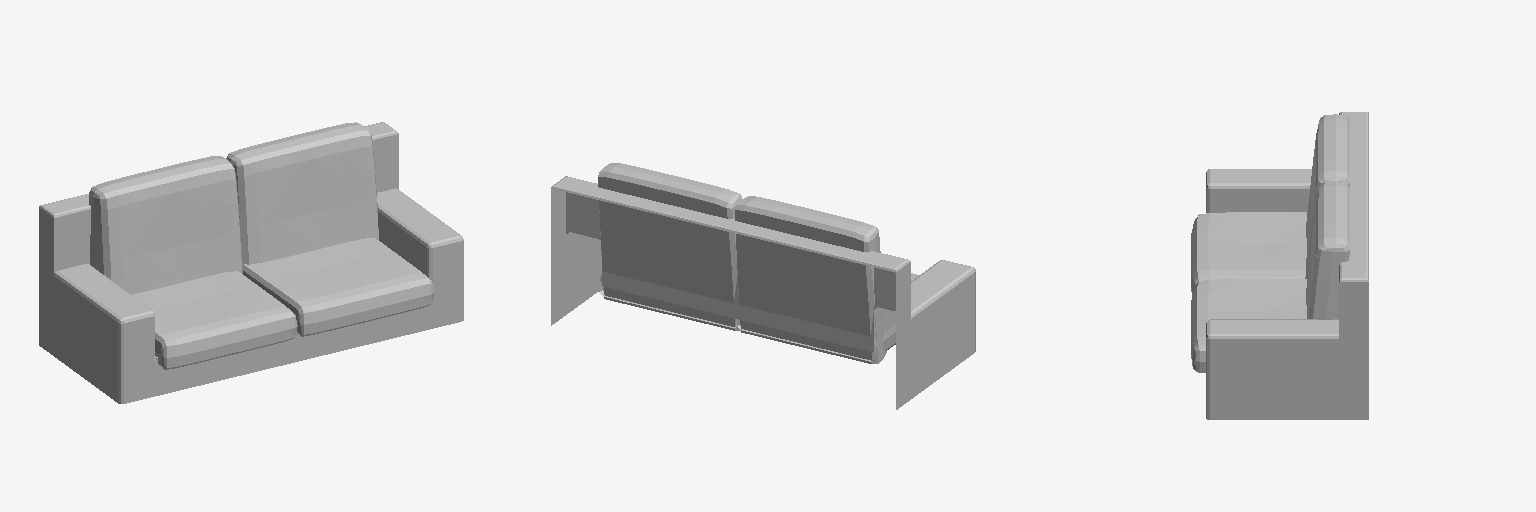
Rendered from couch.obj.
3 renders of one model, left to right at view 1: azimuth 30°, elevation 25°; view 2: azimuth 150°, elevation 25°; view 3: azimuth 270°, elevation 25°, orthographic.
Parts seen in each view (by area): view 1: couch; view 2: couch; view 3: couch.
Boxes of the visible parts, box(x1,y1,x2,y2) form: couch: box(39, 122, 463, 403); couch: box(551, 163, 975, 409); couch: box(1191, 112, 1368, 419).
Size of the model in its own units: 31.1 by 13.76 by 13.93.